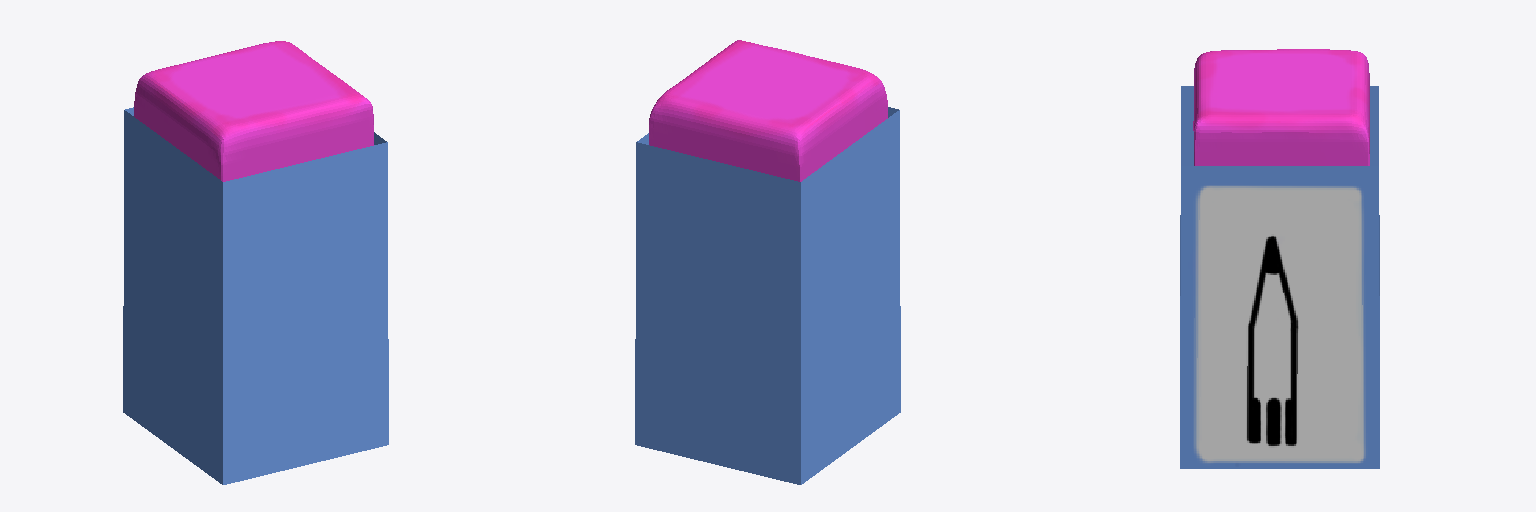
The picture shows the model from 3 angles: view 1: azimuth 30°, elevation 25°; view 2: azimuth 150°, elevation 25°; view 3: azimuth 270°, elevation 25°; orthographic projection.
Parts seen in each view (by area): view 1: package_Cube, eraser_Cube.001; view 2: package_Cube, eraser_Cube.001; view 3: package_Cube, eraser_Cube.001.
Part boxes in pixels (x1,y1,x2,y2): package_Cube: (123,107,388,484); eraser_Cube.001: (134,41,373,181); package_Cube: (635,107,900,484); eraser_Cube.001: (649,40,887,181); package_Cube: (1180,86,1379,468); eraser_Cube.001: (1193,49,1369,165).
Size of the model in its own units: 1.24 by 2.46 by 1.29.
Materials: 2 (2 with a texture image).